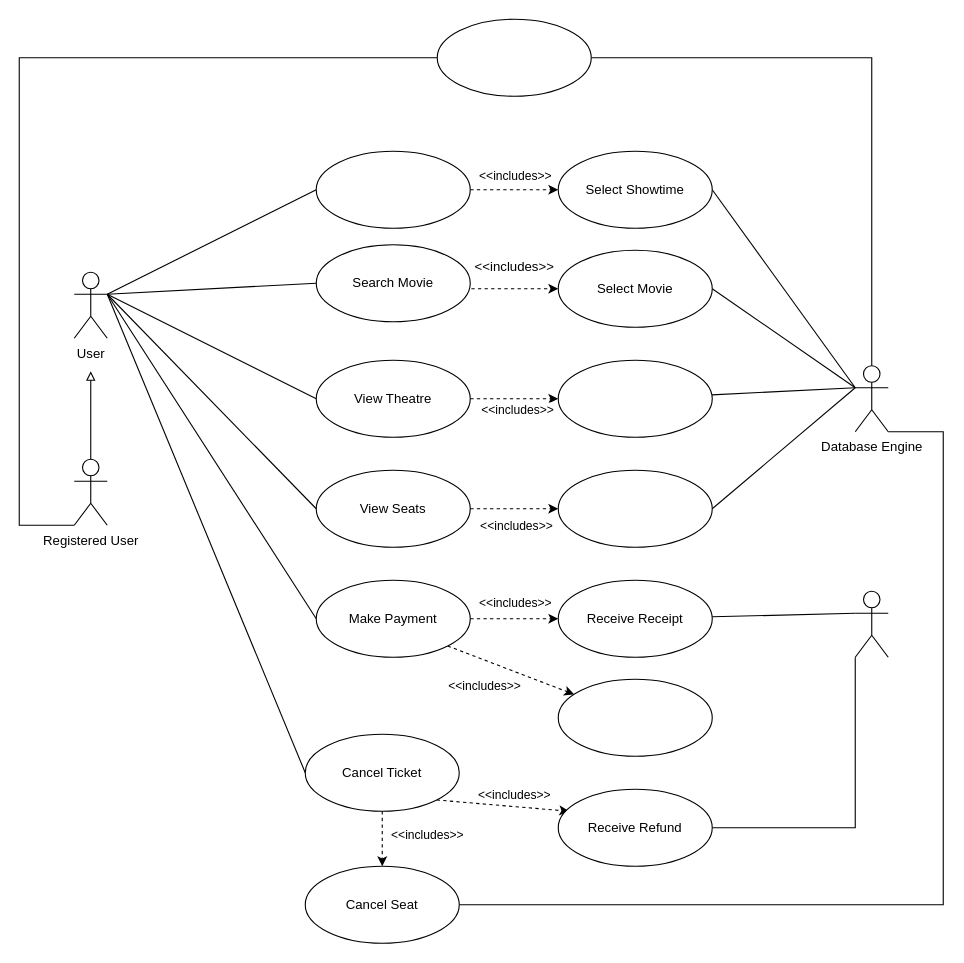
This 964x963 diagram has some shape labels left out. The shapes that lost their labels are listed below. From the top down, each one's box as (x1, y1, x2, y2) in pixels, then its label:
(436, 18, 591, 96): Login
(315, 150, 470, 228): View Showtimes
(557, 359, 712, 437): Select Theatre
(557, 469, 712, 547): Select Seat
(854, 590, 888, 657): Bank
(557, 678, 712, 756): Receive Ticket
